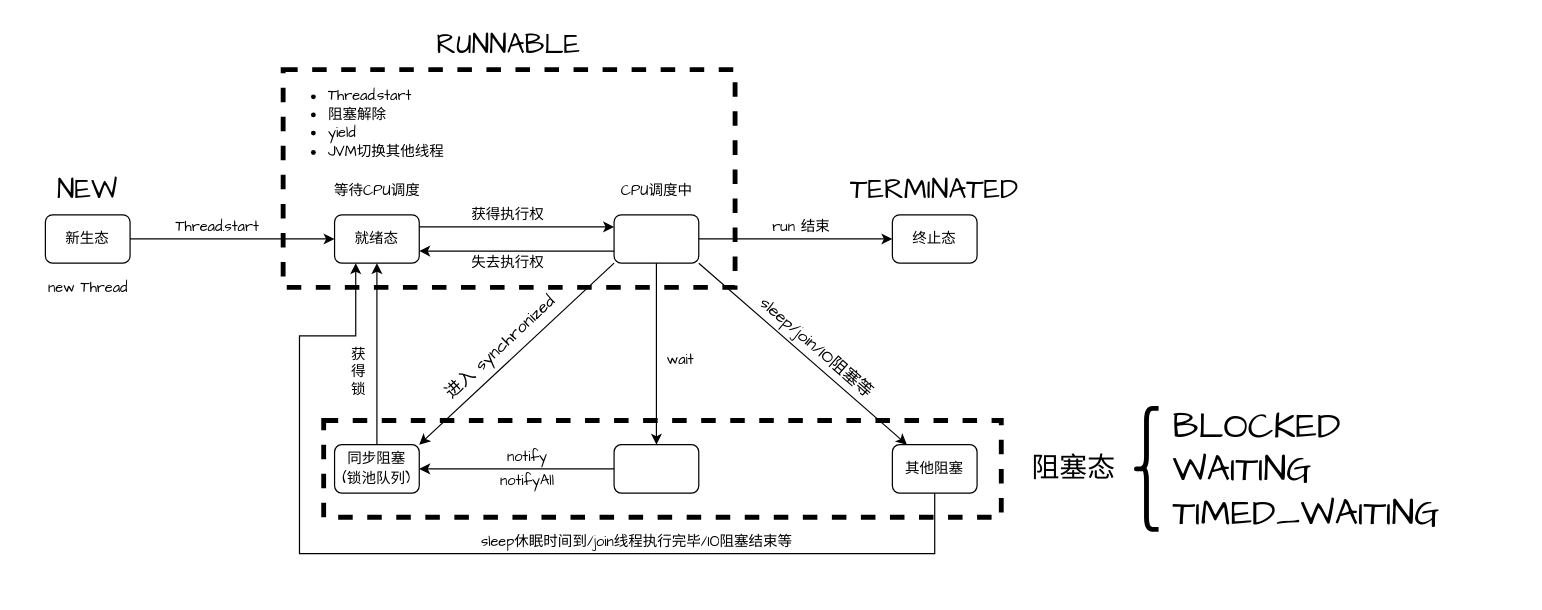
This 1542x610 diagram has some shape labels left out. The shapes that lost their labels are listed below. From the top down, each one's box as (x1, y1, x2, y2) in pixels, then its label:
(613, 214, 699, 263): 运行态
(613, 443, 699, 493): 等待阻塞 (等待队列)
